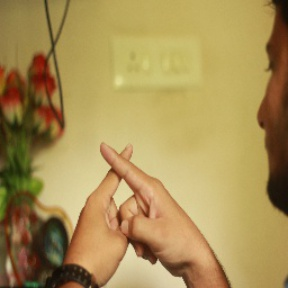X: (63, 129, 188, 232)
